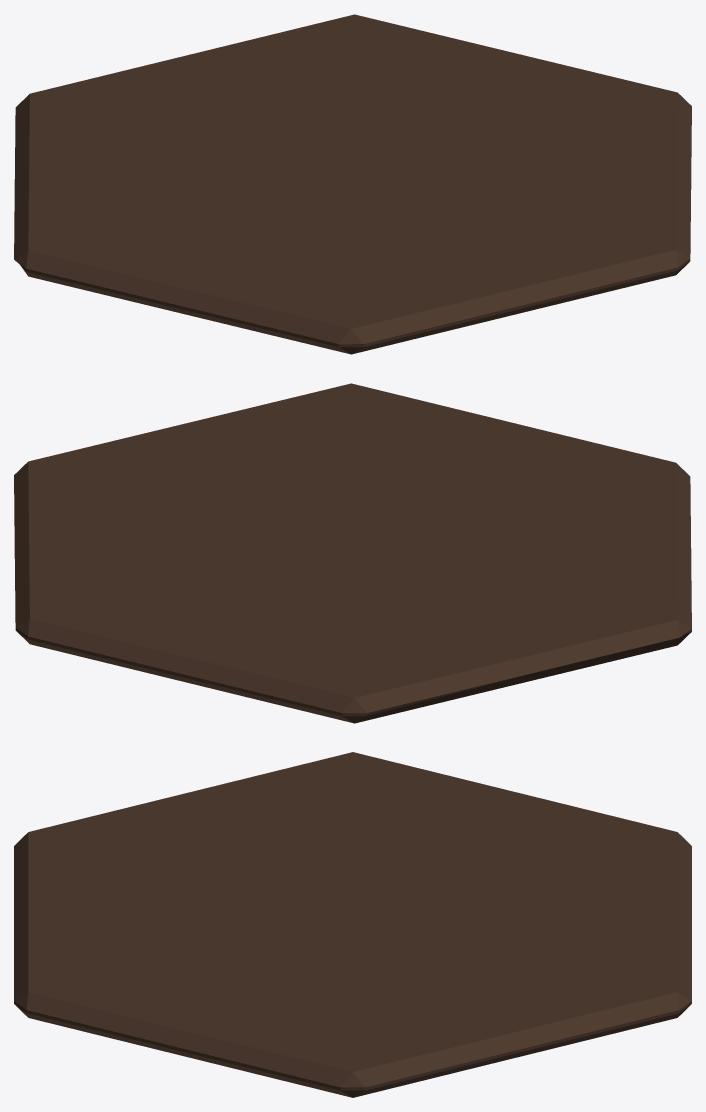
Rendered from hexagonWald2.fbx.
The picture shows the model from 3 angles, top to bottom: view 1: azimuth 30°, elevation 25°; view 2: azimuth 150°, elevation 25°; view 3: azimuth 270°, elevation 25°; orthographic projection.
Visible parts, largest first — view 1: Cylinder.001; view 2: Cylinder.001; view 3: Cylinder.001.
Boxes of the visible parts, x1,y1,x2,y2 form: Cylinder.001: (14,14,691,354); Cylinder.001: (14,383,691,723); Cylinder.001: (14,752,691,1097).
Size of the model in its own units: 115 by 4.22 by 100.
1 material, 1 textured.
